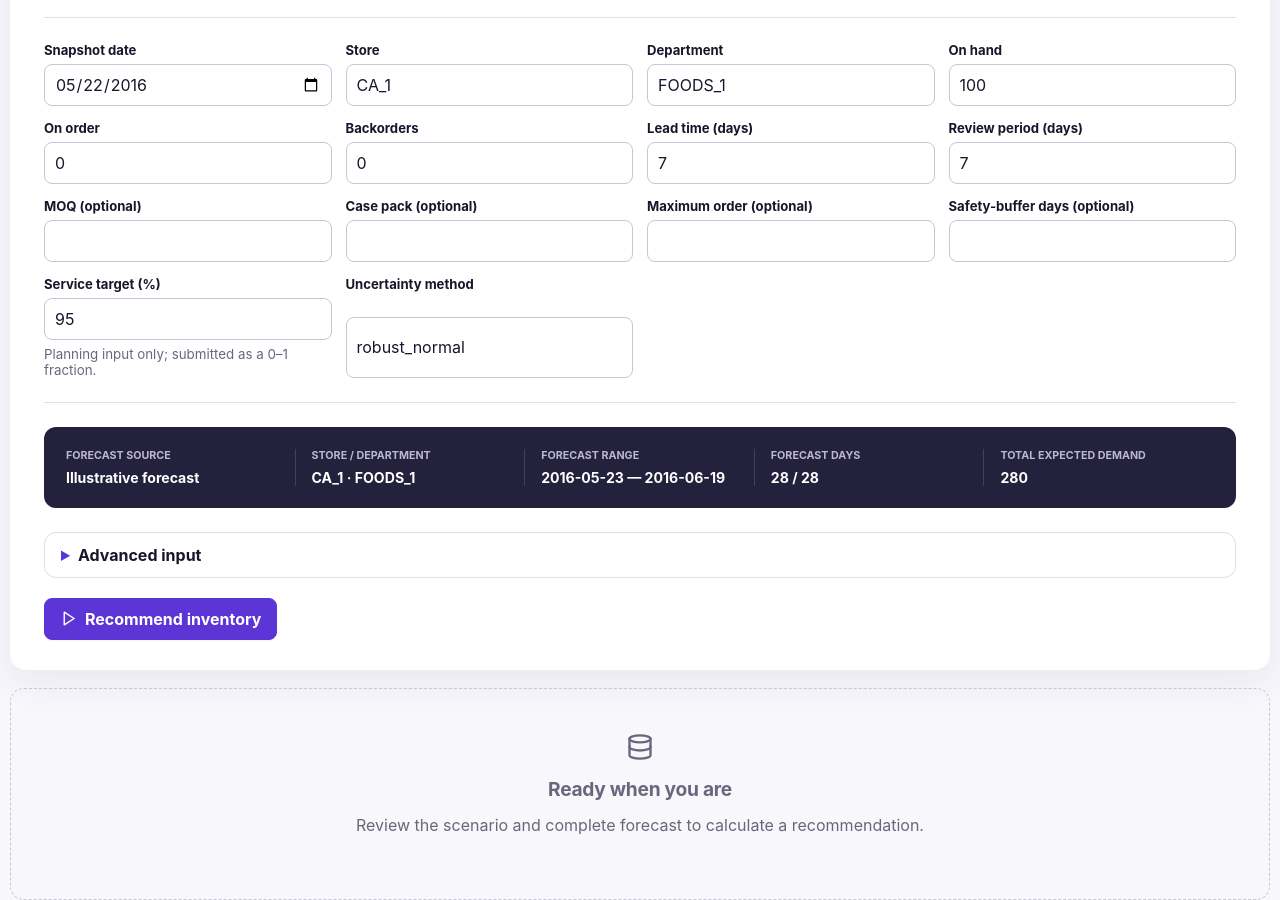
Scenario: renders inventory explanation, synthetic provenance, and clean integer formatting
The width and height of the screenshot is (1280, 900).
(page scrolled)
Expected: the number field showing "95" is shown, [44, 298, 332, 340]
Expected: the text "28 / 28" is shown, [771, 469, 819, 486]
What coordinates should you click on to do the following:
click the button "Recommend inventory"
I would click on:
 (161, 619)
Its box is [44, 598, 277, 640].
(page scrolled)
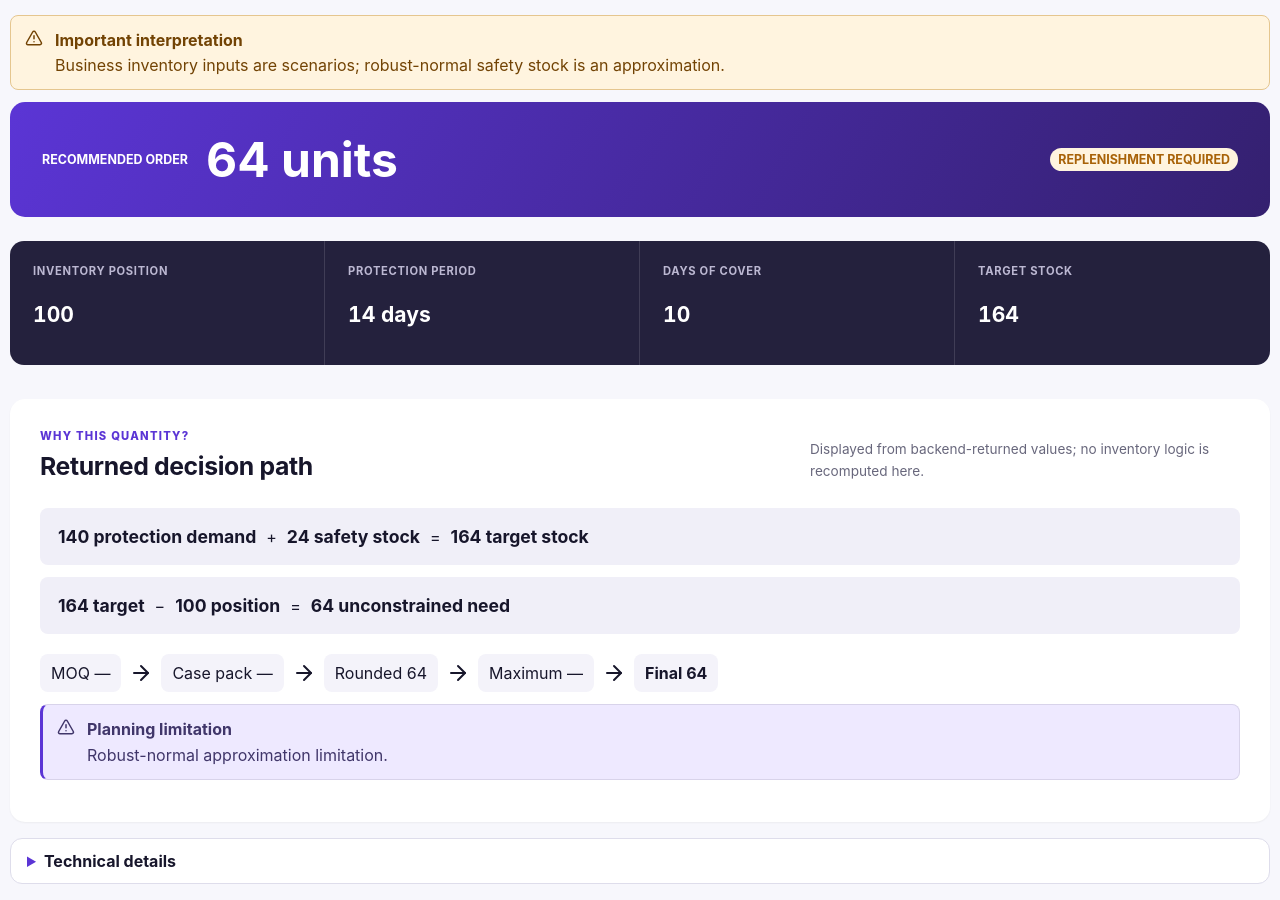
Expected: the text "Why this quantity?" is shown, [40, 429, 189, 443]
Expected: the text "64 unconstrained need" is shown, [311, 595, 510, 616]
Expected: the text "140 protection demand" is shown, [58, 526, 256, 547]
